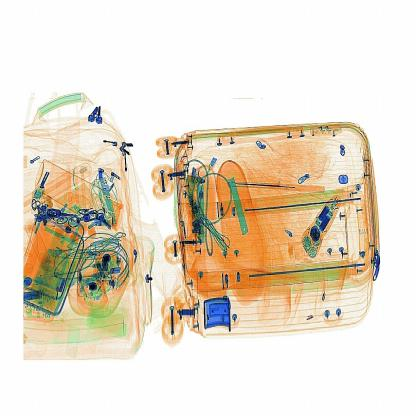wrench: (222, 174, 328, 198)
